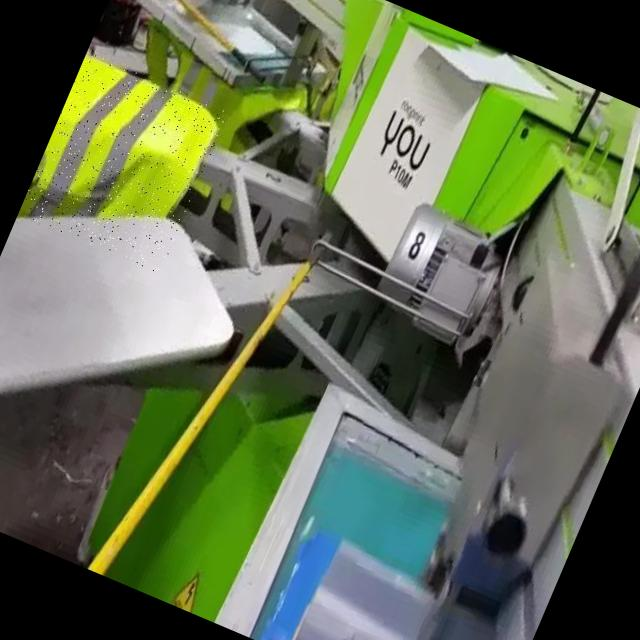safety_vest: (17, 52, 228, 274)
